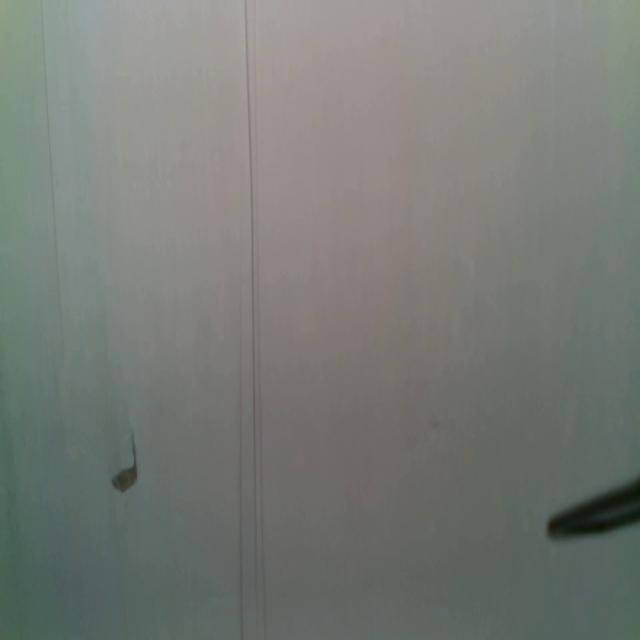crease: (236, 0, 269, 640)
hole: (111, 431, 141, 493)
